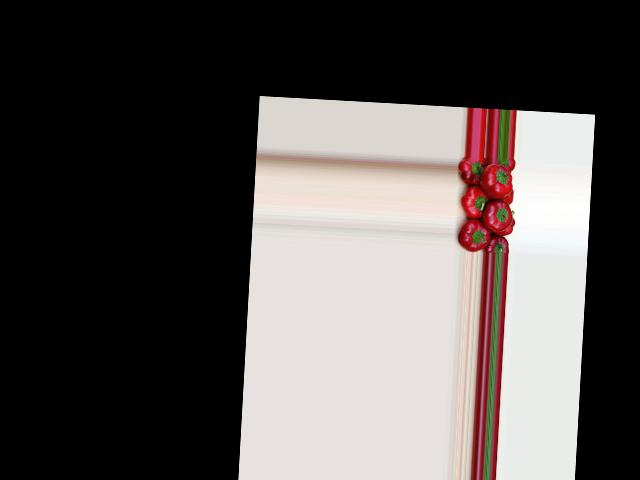bell_pepper: (501, 190, 515, 204)
